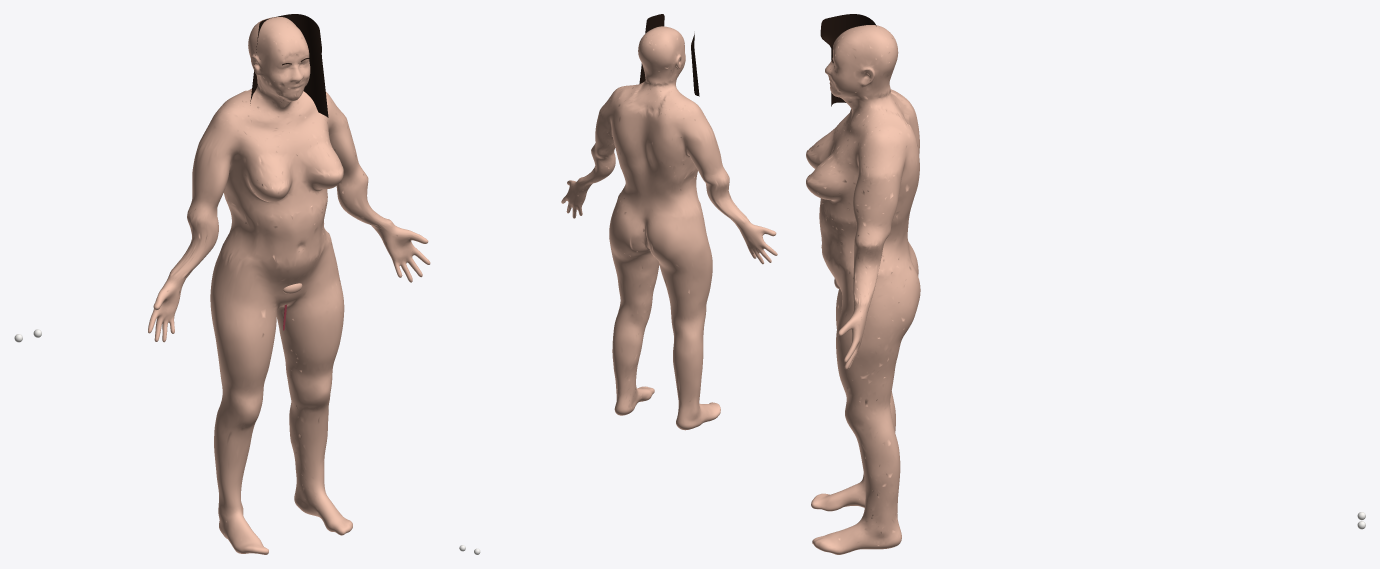
The model's file is female_body_beautified.glb.
The picture shows the model from 3 angles, left to right: view 1: azimuth 30°, elevation 25°; view 2: azimuth 150°, elevation 25°; view 3: azimuth 270°, elevation 25°; orthographic projection. The views are drawn at different scales.
Visible parts, largest first — view 1: Female_Body_Surface, Female_Hair; view 2: Female_Body_Surface, Female_Hair; view 3: Female_Body_Surface, Female_Hair.
Part boxes in pixels (x1,y1,x2,y2): Female_Body_Surface: [148, 16, 430, 554]; Female_Hair: [250, 14, 328, 117]; Female_Body_Surface: [561, 26, 777, 430]; Female_Hair: [639, 14, 699, 96]; Female_Body_Surface: [806, 25, 920, 554]; Female_Hair: [820, 14, 876, 106].
Bounding box in the file's own units: 0.9613 × 1.67 × 1.67.
